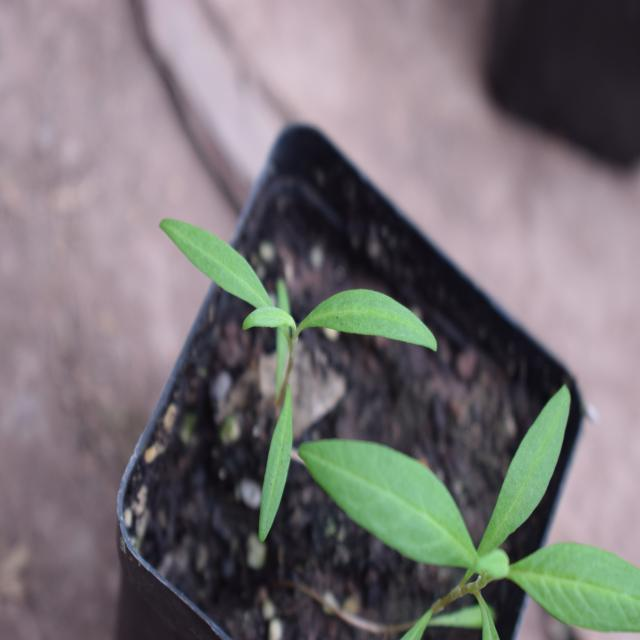white_smart_weed: (142, 188, 442, 555)
